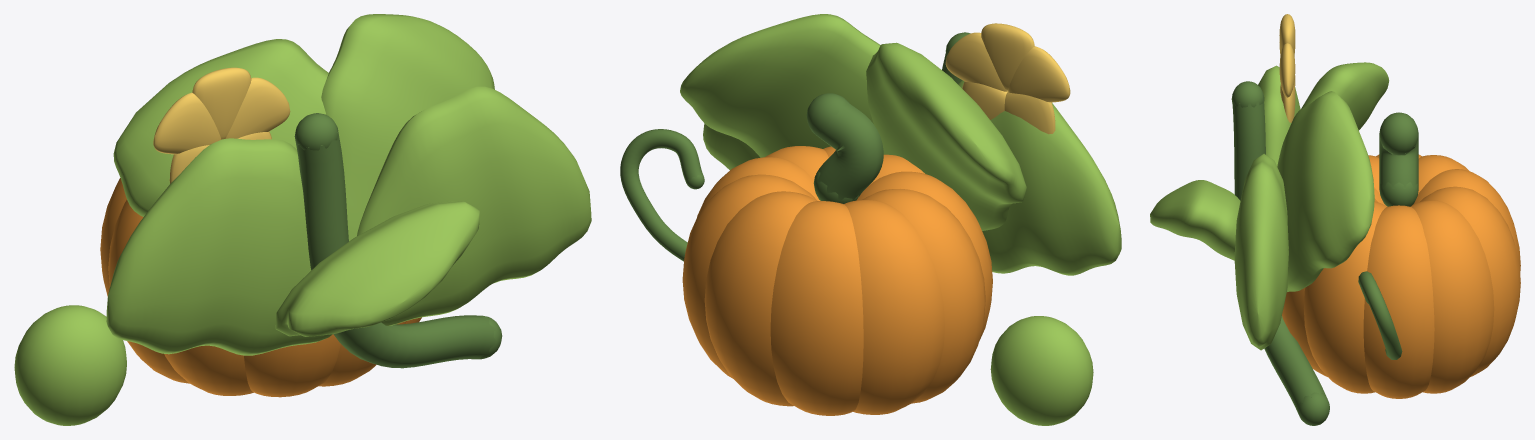
File: crop_7_stage_3.fbx
The picture shows the model from 3 angles, left to right: view 1: azimuth 30°, elevation 25°; view 2: azimuth 150°, elevation 25°; view 3: azimuth 270°, elevation 25°; orthographic projection. The views are drawn at different scales.
Visible parts, largest first — view 1: crop_7_stage_3; view 2: crop_7_stage_3; view 3: crop_7_stage_3.
Boxes of the visible parts, <box> form: crop_7_stage_3: <box>14,14,591,425</box>; crop_7_stage_3: <box>620,14,1121,425</box>; crop_7_stage_3: <box>1150,14,1520,425</box>.
Size of the model in its own units: 0.72 by 0.5 by 0.56.
1 material, 1 textured.
